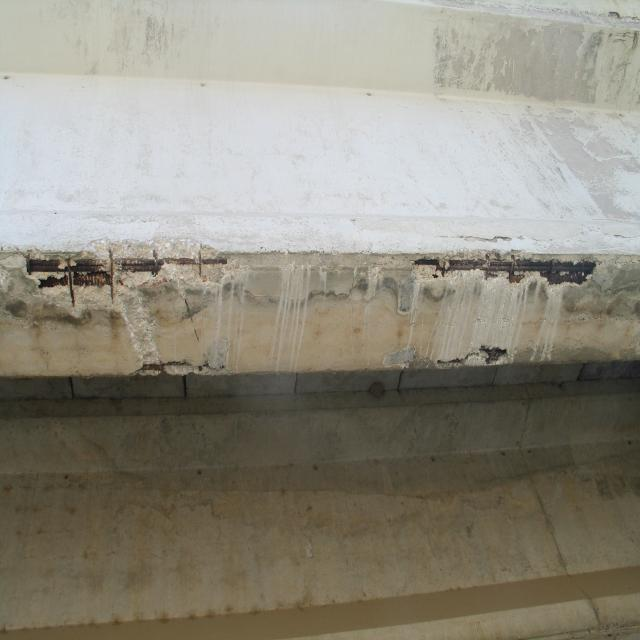corrosion: (11, 249, 241, 310), (414, 248, 600, 296), (432, 342, 514, 369), (131, 353, 226, 375)
